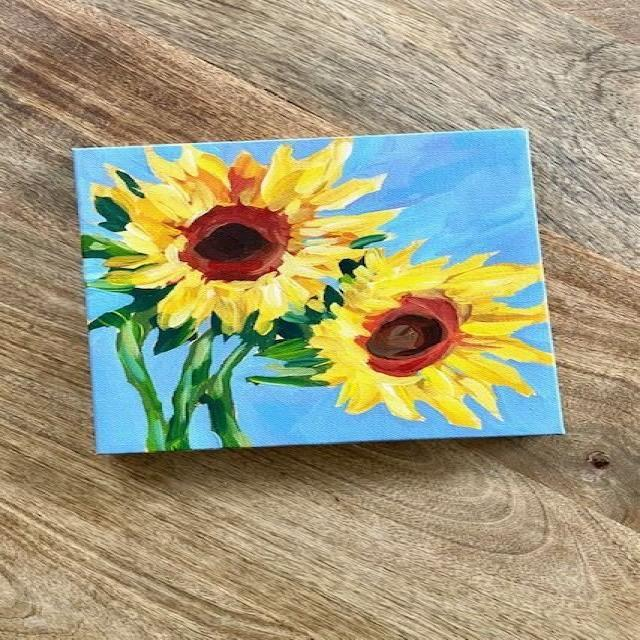sunflower: (89, 136, 404, 337), (306, 238, 554, 429)
